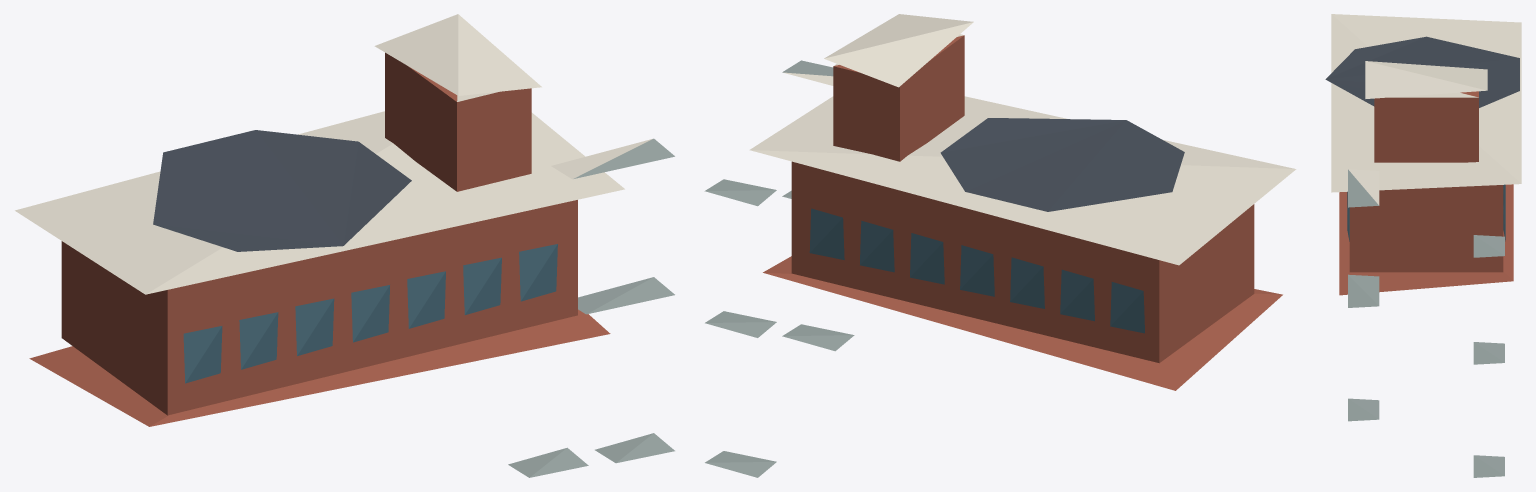
Rendered from rem-eiland.lod2.glb.
3 renders of one model, left to right at view 1: azimuth 30°, elevation 25°; view 2: azimuth 150°, elevation 25°; view 3: azimuth 270°, elevation 25°, orthographic. The views are drawn at different scales.
Visible parts, largest first — view 1: lod2; view 2: lod2; view 3: lod2.
Boxes of the visible parts, <box> form: lod2: <box>15,14,674,477</box>; lod2: <box>704,14,1296,477</box>; lod2: <box>1325,14,1521,477</box>.
Bounding box in the file's own units: 29.05 × 24.32 × 12.56.
